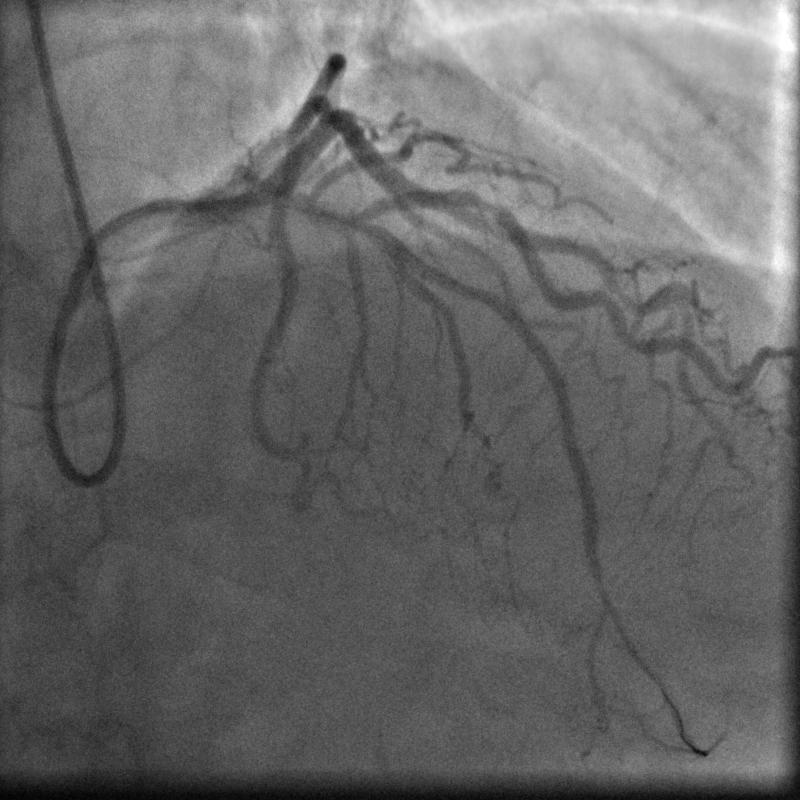Stenosis: (465, 184, 515, 224)
